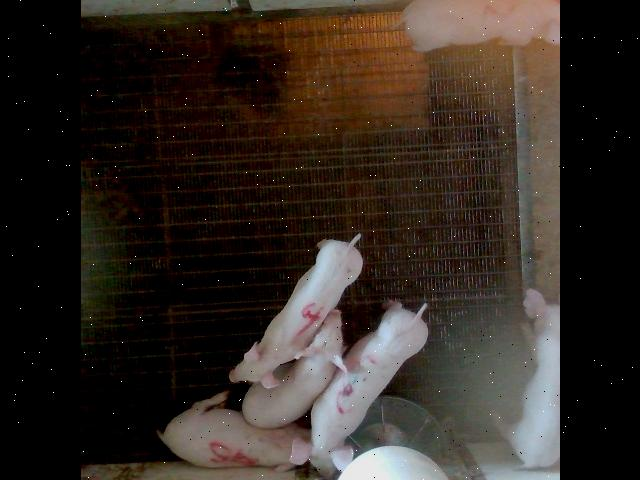pig-1: (508, 289, 559, 468)
pig-2: (402, 0, 558, 51)
pig-3: (288, 302, 426, 475)
pig-4: (229, 235, 361, 388)
pig-5: (156, 391, 309, 469)
